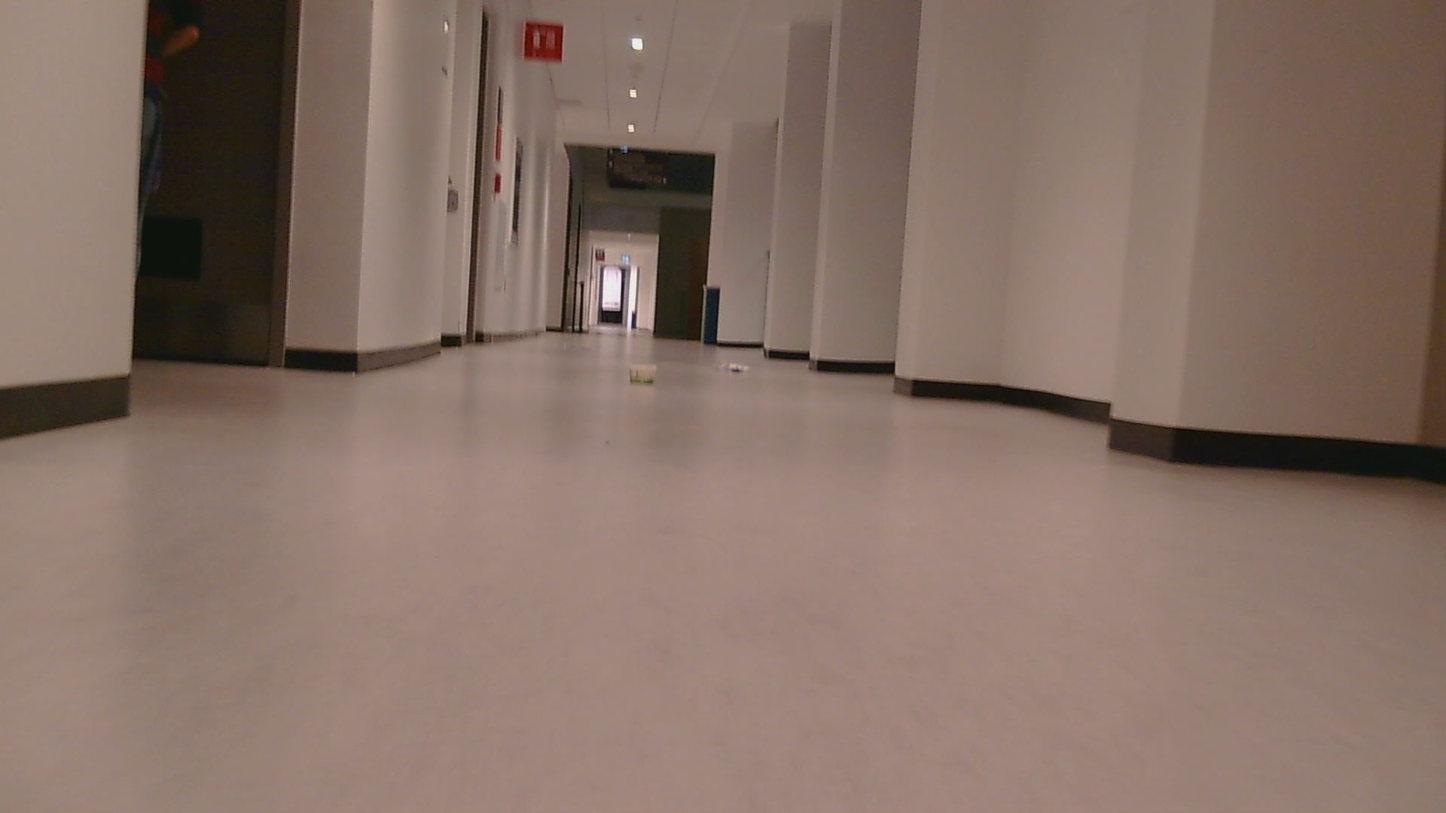carton: (621, 355, 663, 394), (709, 351, 757, 377)
